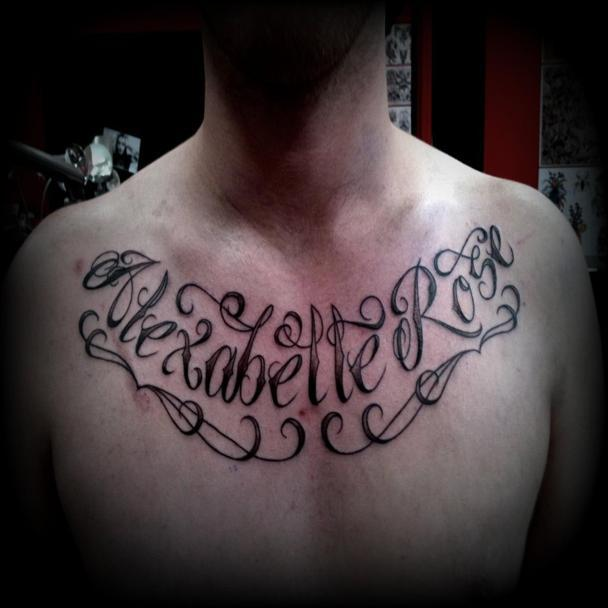tattoos: (76, 223, 521, 465)
